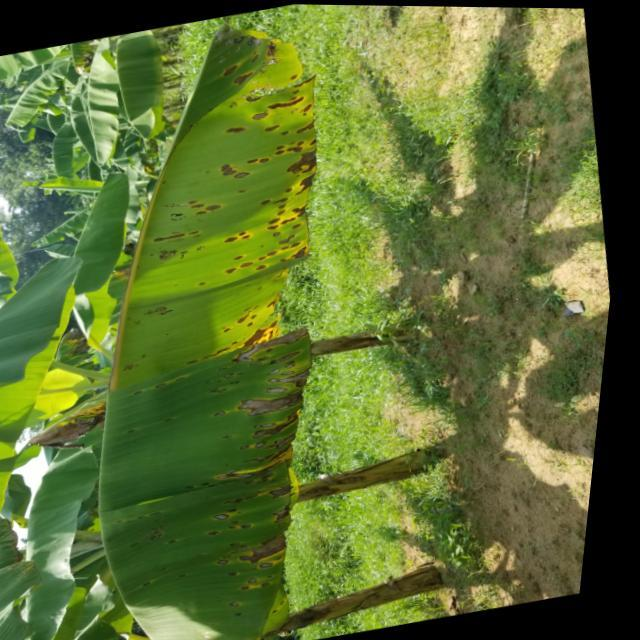Early_rust: (99, 24, 397, 640)
